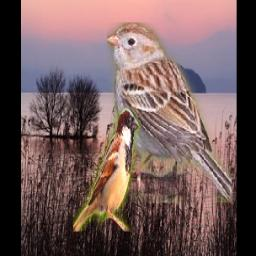Sparrow: (107, 23, 232, 204), (73, 108, 141, 233)
